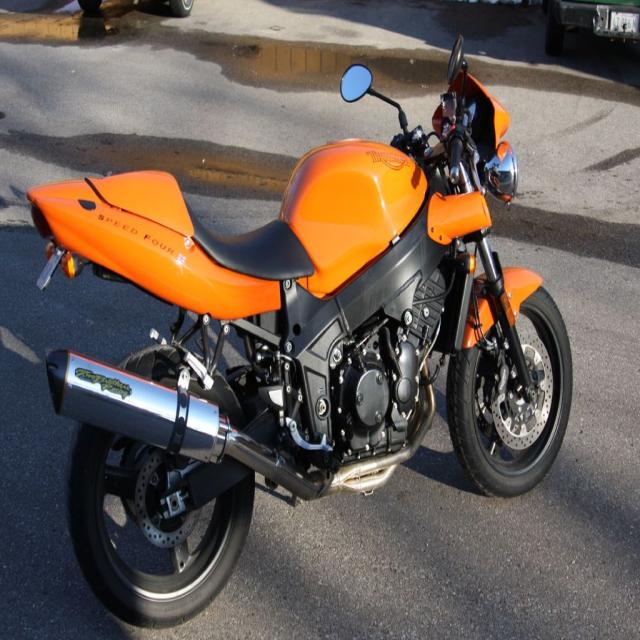Motorbikes: (26, 35, 573, 627)
